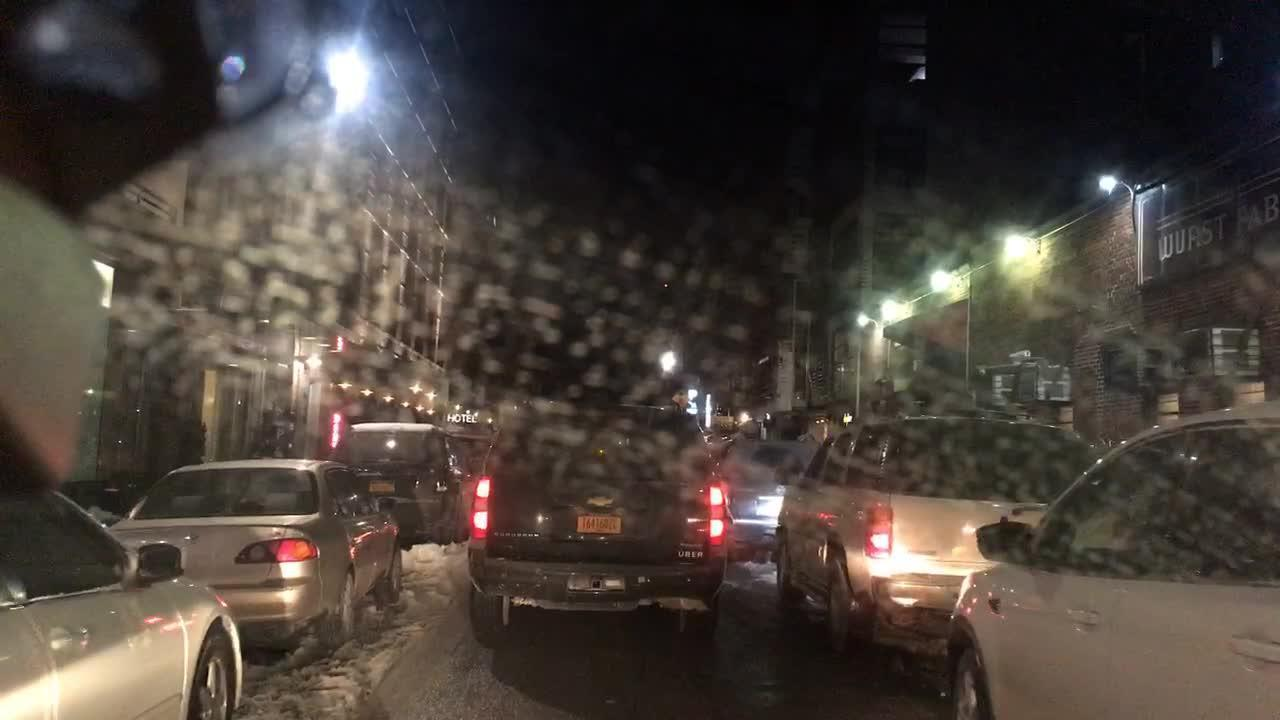chevrolet: (579, 491, 619, 511)
